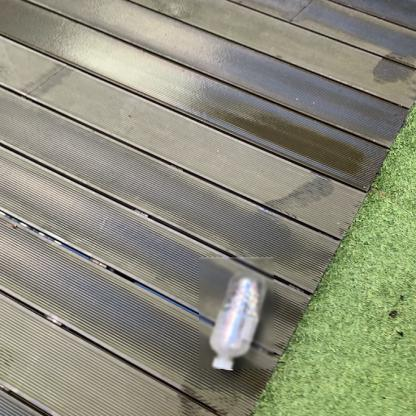plastic-bottles: (201, 258, 277, 371), (223, 270, 229, 273)
